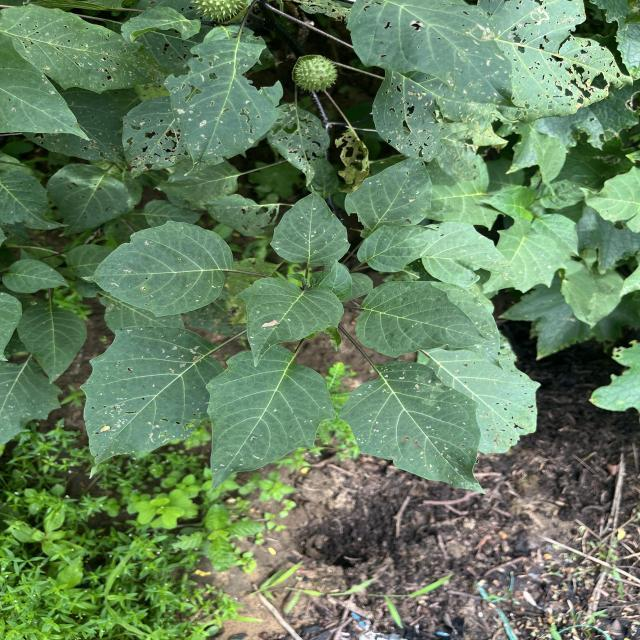Datura metal linn: (78, 323, 228, 481), (337, 359, 489, 496), (204, 343, 338, 495), (80, 219, 238, 318), (354, 280, 498, 360), (234, 275, 347, 368), (268, 182, 353, 268), (354, 224, 442, 274)
